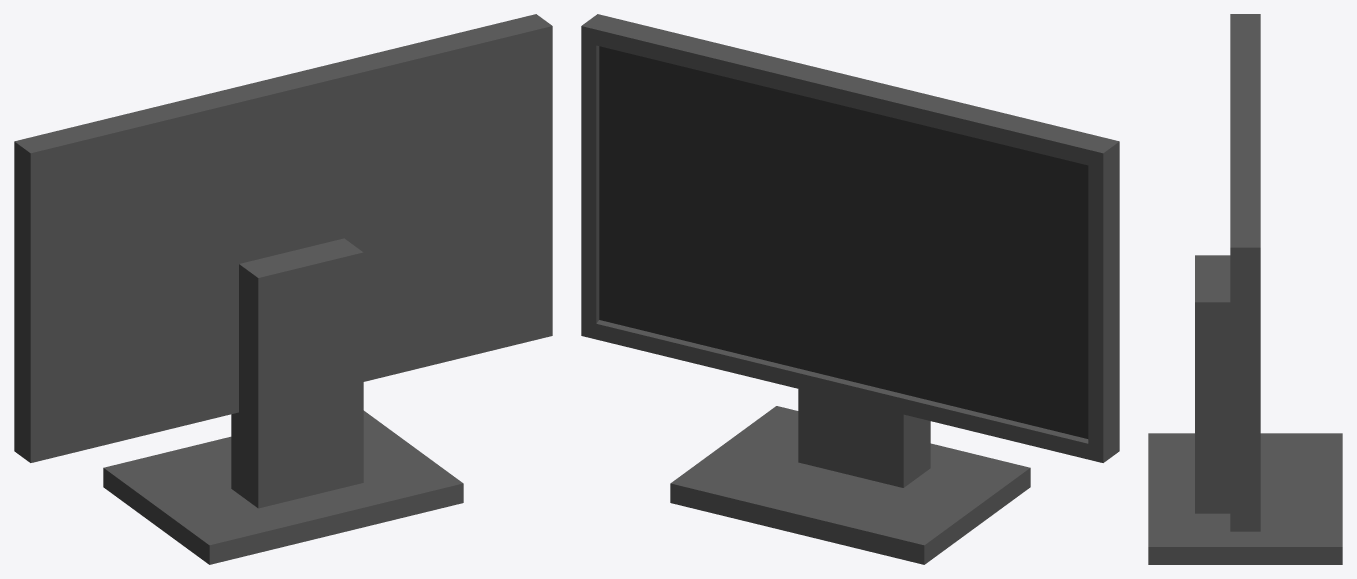
Rendered from Monitor.fbx.
3 views of the same model, side by side, from view 1: azimuth 30°, elevation 25°; view 2: azimuth 150°, elevation 25°; view 3: azimuth 270°, elevation 25° (orthographic). The views are drawn at different scales.
Visible parts, largest first — view 1: Monitor.003; view 2: Monitor.003; view 3: Monitor.003.
Boxes of the visible parts, box(x1,y1,x2,y2) form: Monitor.003: box(14, 14, 552, 564); Monitor.003: box(581, 14, 1119, 564); Monitor.003: box(1148, 14, 1342, 564).
Size of the model in its own units: 1.08 by 0.814 by 0.3802.
